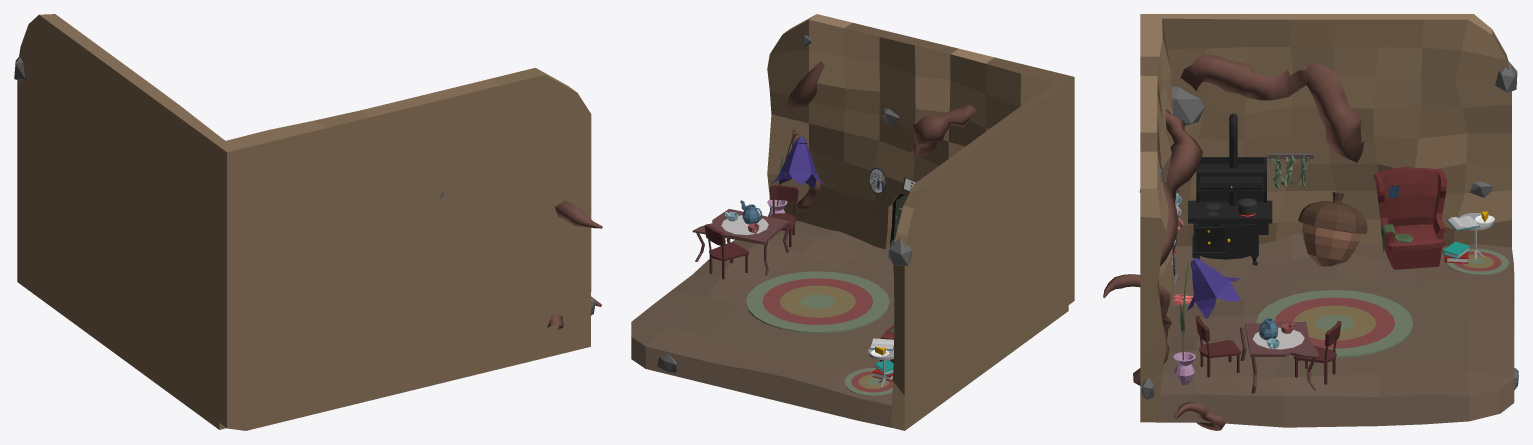
The model's file is isometric-mouse-home-lowpoly.fbx.
The picture shows the model from 3 angles, left to right: view 1: azimuth 30°, elevation 25°; view 2: azimuth 150°, elevation 25°; view 3: azimuth 270°, elevation 25°; orthographic projection. The views are drawn at different scales.
Visible parts, largest first — view 1: Cube.002_walls_0, BezierCurve.001_roots_0; view 2: Cube.002_walls_0, Cube_ground_0, Cylinder.002_Rug1_0, BezierCurve_roots_0, Cylinder.002_Rug2_0, Cylinder.002_Rug3_0, Cube.001_table_0, Cylinder.018_Flower_bell_0, Cylinder.013_chair_0, Cylinder.014_chair_0, Cube.001_tablecloth_0, Icosphere.005_rocks_0 (+1 smaller); view 3: Cube.002_walls_0, Cube_ground_0, Cube.011_stove_metal_0, BezierCurve.002_roots_0, Cube.010_armchair_0, Cylinder.002_Rug1_0, BezierCurve_roots_0, Cylinder.002_Rug2_0, Cylinder.015_acornhat_0, Cylinder.015_acorn_0, Cylinder.018_Flower_bell_0, Cube.001_table_0 (+10 smaller).
Part boxes in pixels (<box>): Cube.002_walls_0: <box>17,14,591,430</box>; BezierCurve.001_roots_0: <box>547,200,602,330</box>; Cube.002_walls_0: <box>767,14,1074,430</box>; Cube_ground_0: <box>631,220,894,427</box>; Cylinder.002_Rug1_0: <box>746,271,889,333</box>; BezierCurve_roots_0: <box>784,61,976,157</box>; Cylinder.002_Rug2_0: <box>762,278,873,324</box>; Cylinder.002_Rug3_0: <box>779,285,855,317</box>; Cube.001_table_0: <box>692,209,790,275</box>; Cylinder.018_Flower_bell_0: <box>771,136,826,188</box>; Cylinder.013_chair_0: <box>704,224,748,279</box>; Cylinder.014_chair_0: <box>767,185,798,247</box>; Cube.001_tablecloth_0: <box>721,215,768,235</box>; Icosphere.005_rocks_0: <box>888,238,911,265</box>; Cube.002_walls_0: <box>1140,14,1511,422</box>; Cube_ground_0: <box>1156,234,1514,427</box>; Cube.011_stove_metal_0: <box>1188,113,1272,265</box>; BezierCurve.002_roots_0: <box>1180,54,1364,162</box>; Cube.010_armchair_0: <box>1373,166,1446,269</box>; Cylinder.002_Rug1_0: <box>1256,290,1413,357</box>; BezierCurve_roots_0: <box>1160,109,1202,266</box>; Cylinder.002_Rug2_0: <box>1274,297,1395,348</box>; Cylinder.015_acornhat_0: <box>1298,192,1367,233</box>; Cylinder.015_acorn_0: <box>1302,223,1360,266</box>; Cylinder.018_Flower_bell_0: <box>1187,257,1240,318</box>; Cube.001_table_0: <box>1239,321,1319,393</box>.
Bounding box in the file's own units: 99000 × 70732 × 100494.
49 materials, 3 textured.
